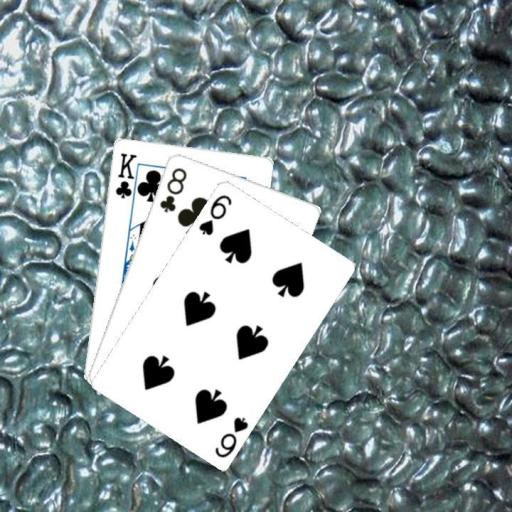6S: (211, 414, 250, 460), (196, 191, 233, 237)
8C: (157, 164, 189, 214)
KC: (112, 150, 142, 206)
